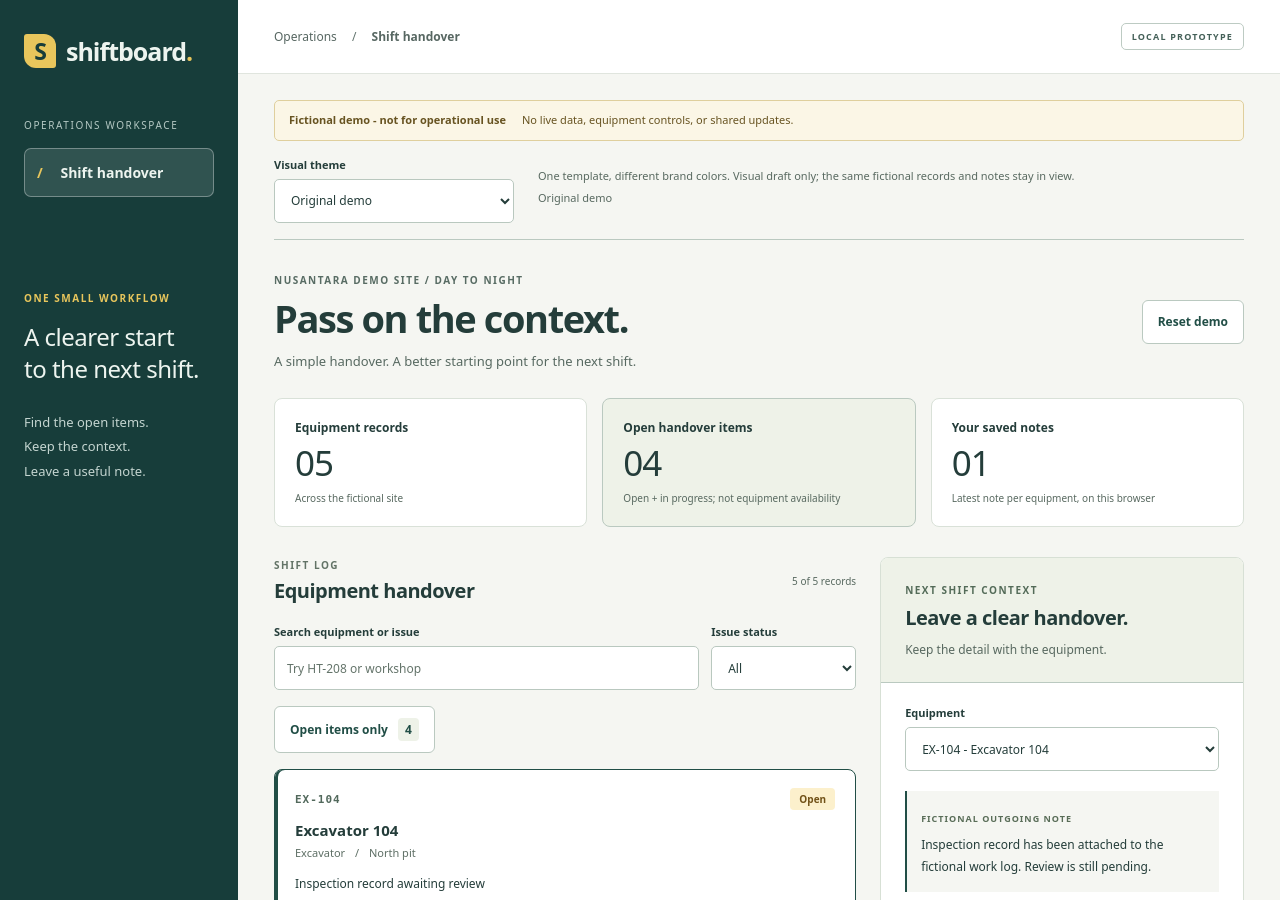
Test case: storage and reset › keeps UI and saved notes intact when reset storage fails
Click the button "Open items only 4".
click(354, 730)  # box [274,706,435,753]
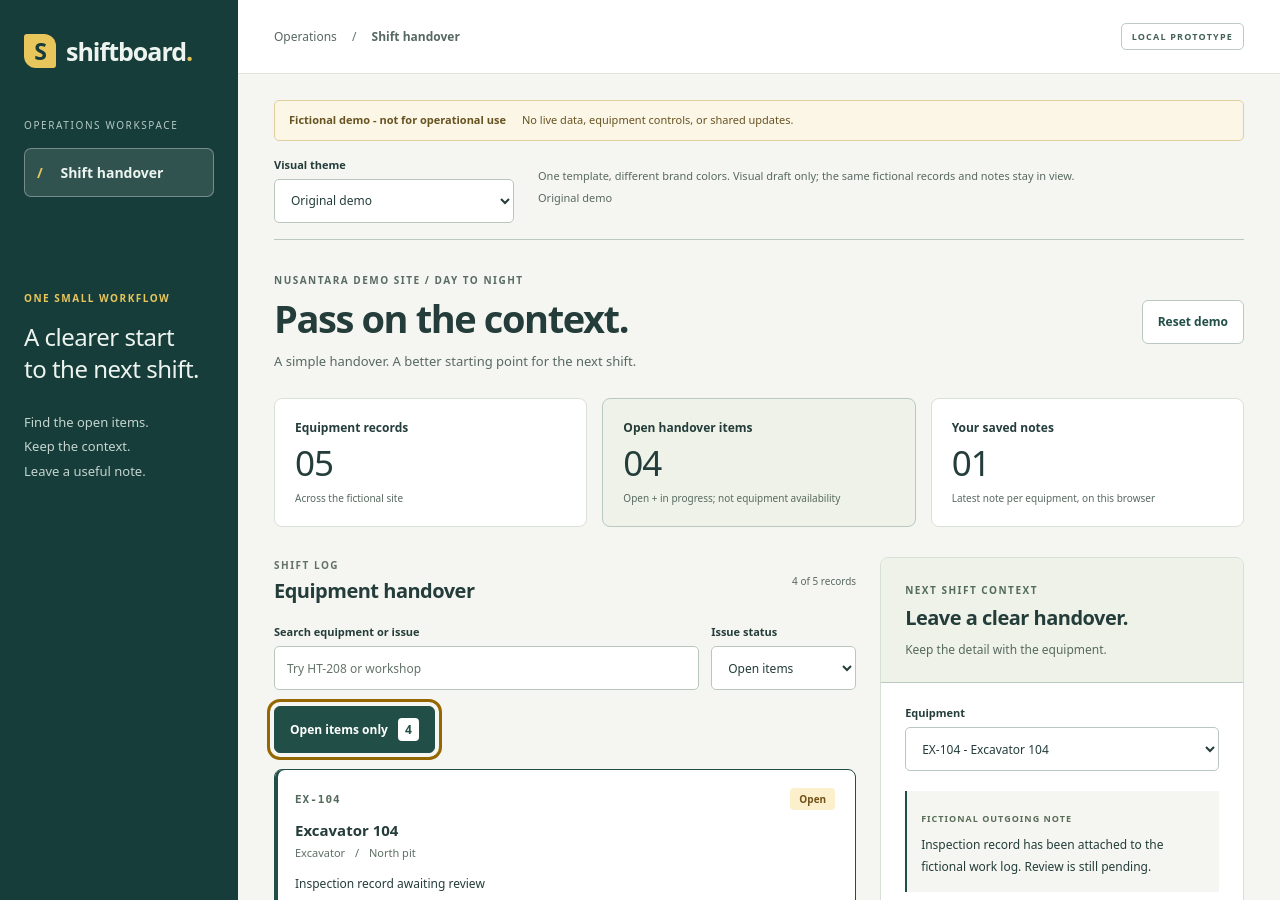
Type "HT" into the search field labelled "Search equipment or issue".
click(487, 668); type("HT")  # box [274,646,699,690]
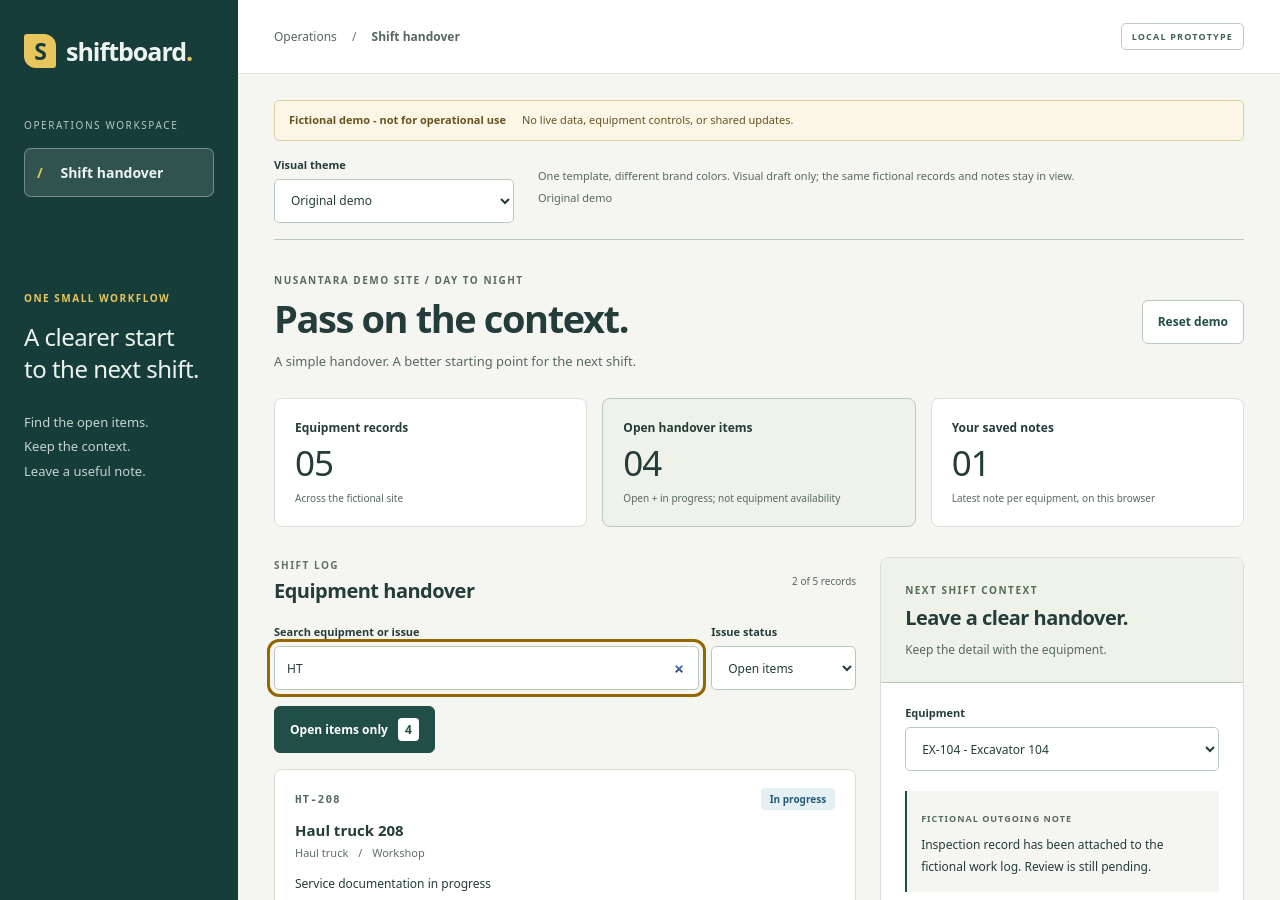
Click the button "Reset demo".
click(1193, 322)  # box [1142,300,1244,344]
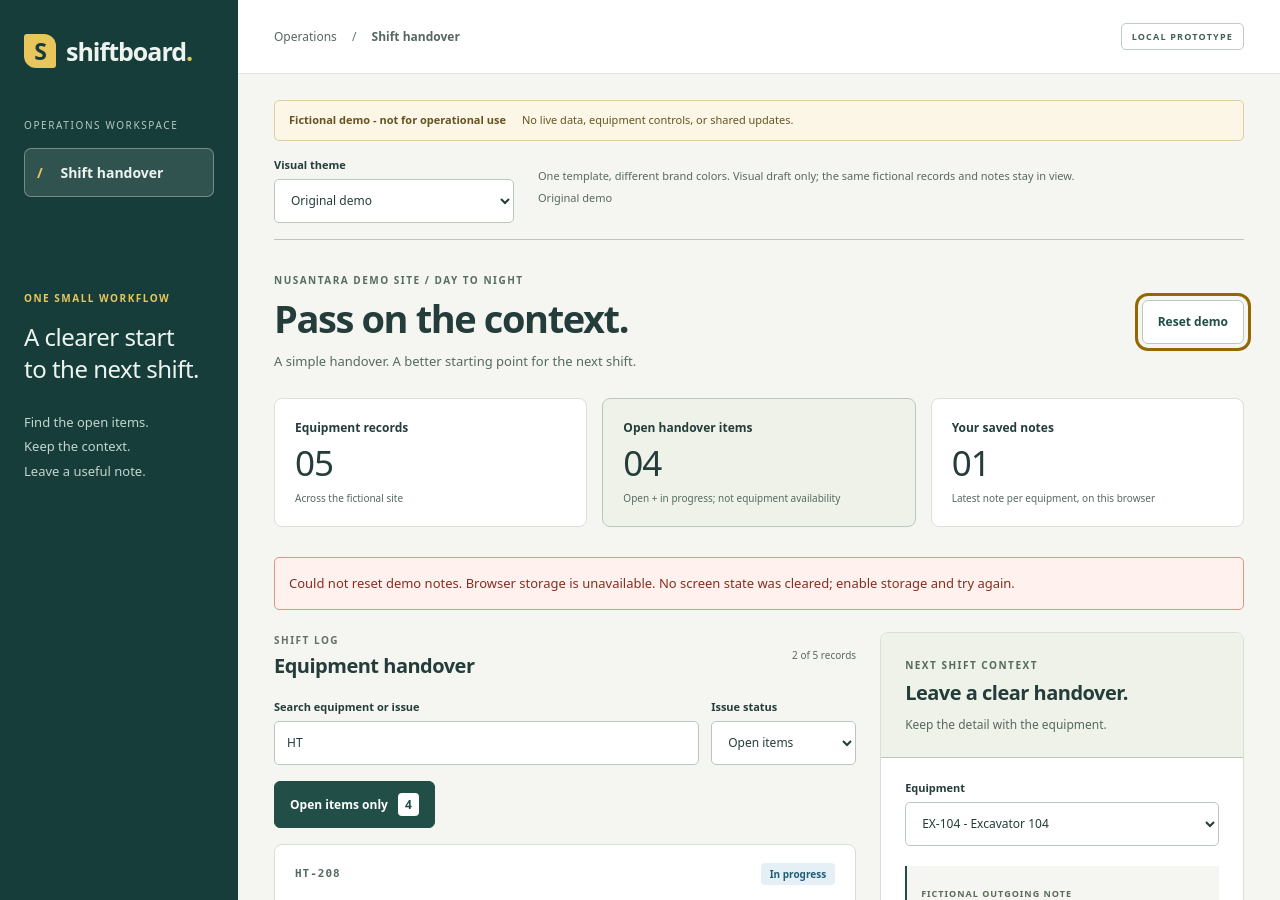
Check: the dropdown labelled "Issue status" shows "Open items", box [711,720,856,764]
Check: the 2nd message shows "Could not reset", box [289,574,1015,592]
